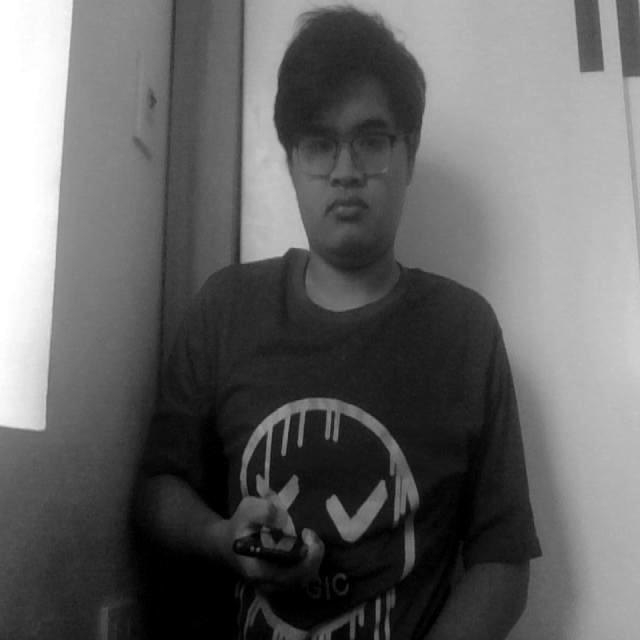phone: (234, 496, 322, 590)
